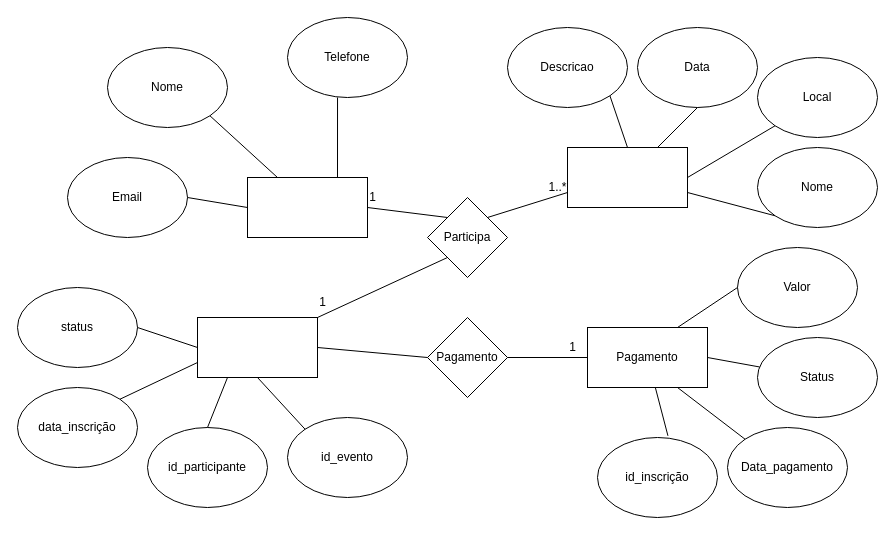
This 895x535 diagram has some shape labels left out. The shapes that lost their labels are listed below. From the top down, each one's box as (x1, y1, x2, y2) in pixels, then its label:
(566, 146, 688, 208): Evento
(246, 176, 368, 238): Participante
(196, 316, 318, 378): Inscrição
